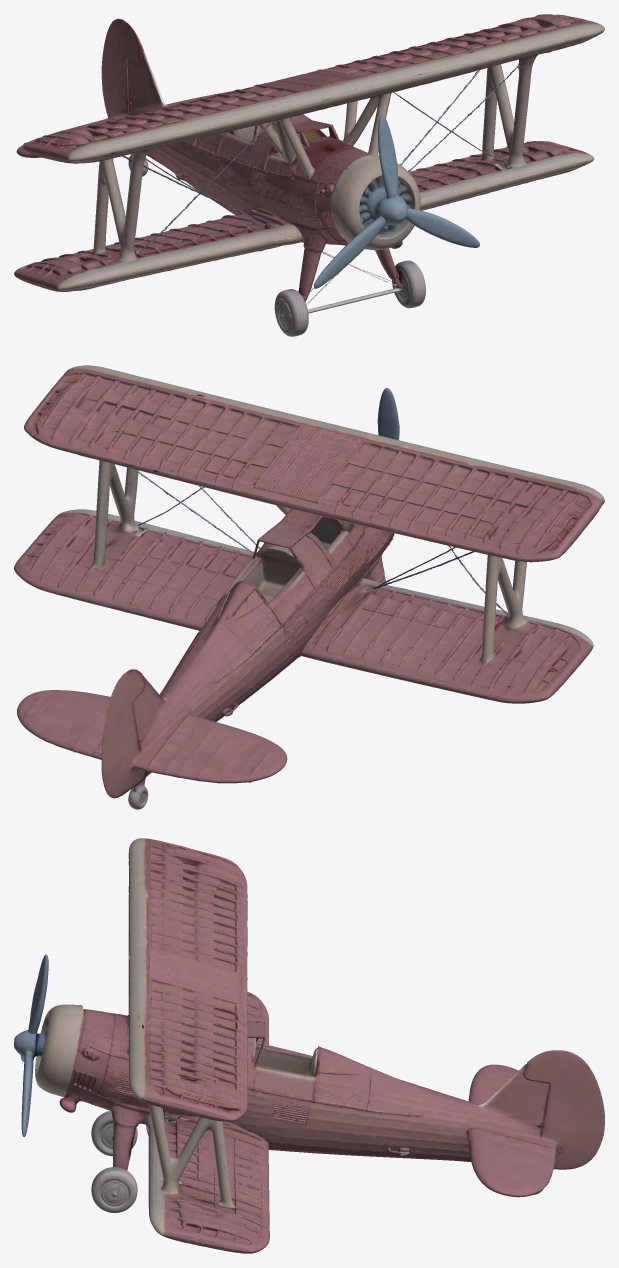
The picture shows the model from 3 angles, top to bottom: view 1: azimuth 30°, elevation 25°; view 2: azimuth 150°, elevation 25°; view 3: azimuth 270°, elevation 25°; orthographic projection.
Parts seen in each view (by area): view 1: tmp8fq415kyobj; view 2: tmp8fq415kyobj; view 3: tmp8fq415kyobj.
Part boxes in pixels (left/top/right/bottom): tmp8fq415kyobj: left=14, top=14, right=604, bottom=336; tmp8fq415kyobj: left=14, top=365, right=604, bottom=809; tmp8fq415kyobj: left=14, top=838, right=604, bottom=1253.
Bounding box in the file's own units: 0.9999 × 0.4285 × 0.9644.
1 material, 1 textured.
